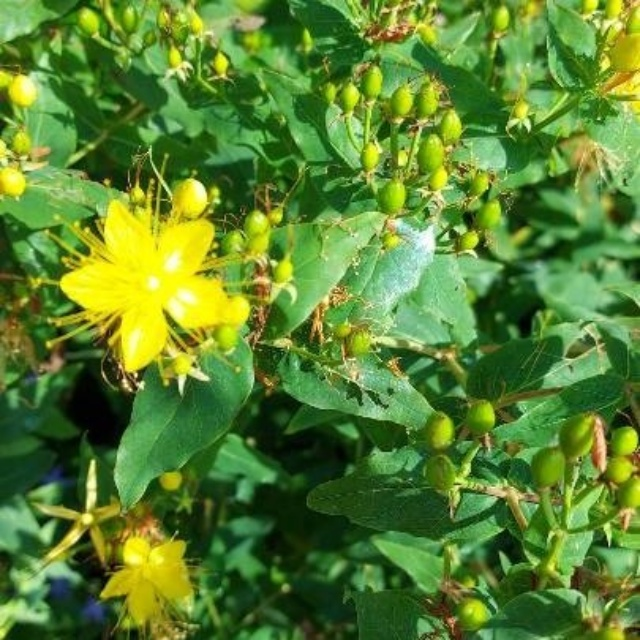obstacle: (58, 161, 460, 480), (277, 46, 490, 319), (438, 406, 626, 613)
